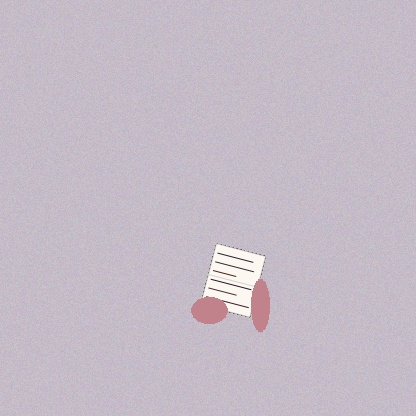cheat_chit: (200, 243, 266, 318)
